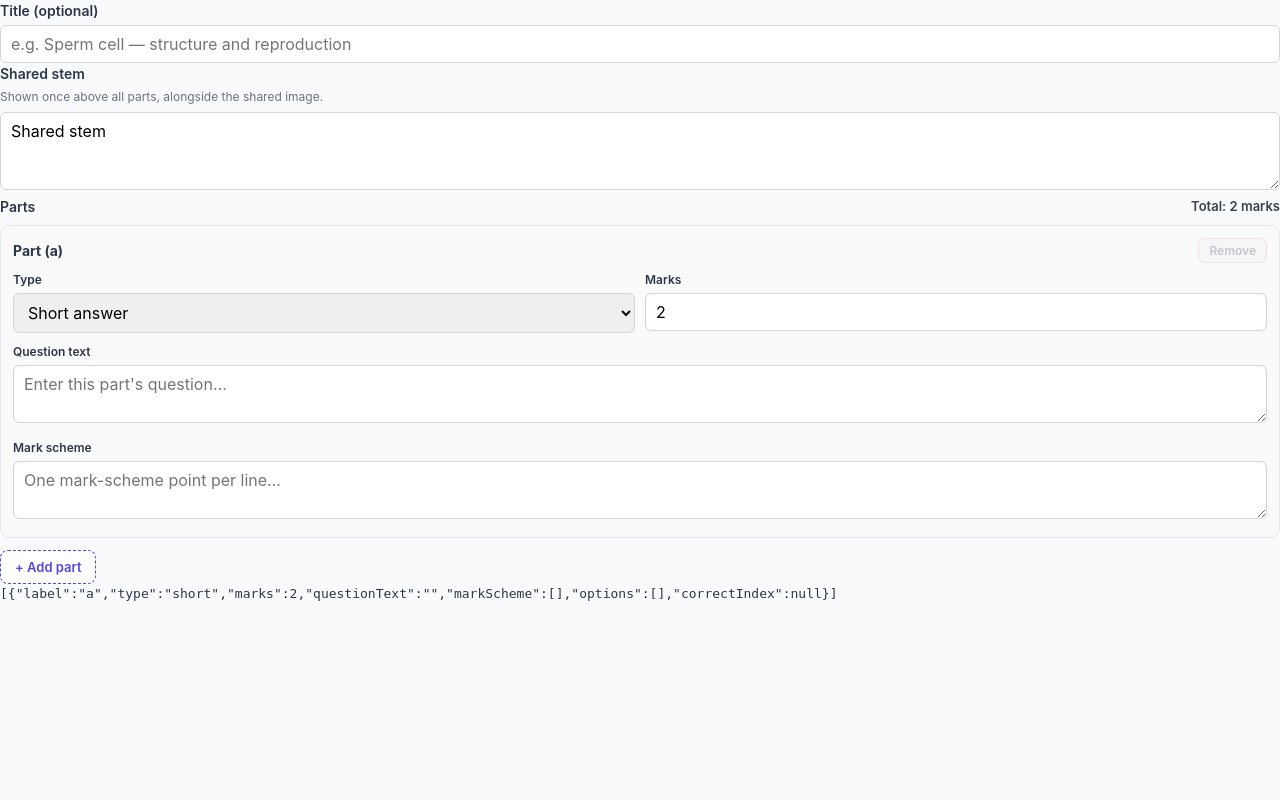
Scenario: CompositePartsEditor table authoring › flag ON: Table option visible in part type select
This screenshot has width=1280, height=800.
Select "Table" in the dropdown with test id "part-type-select-0": (324, 313) [13, 293, 635, 333]
(page scrolled)
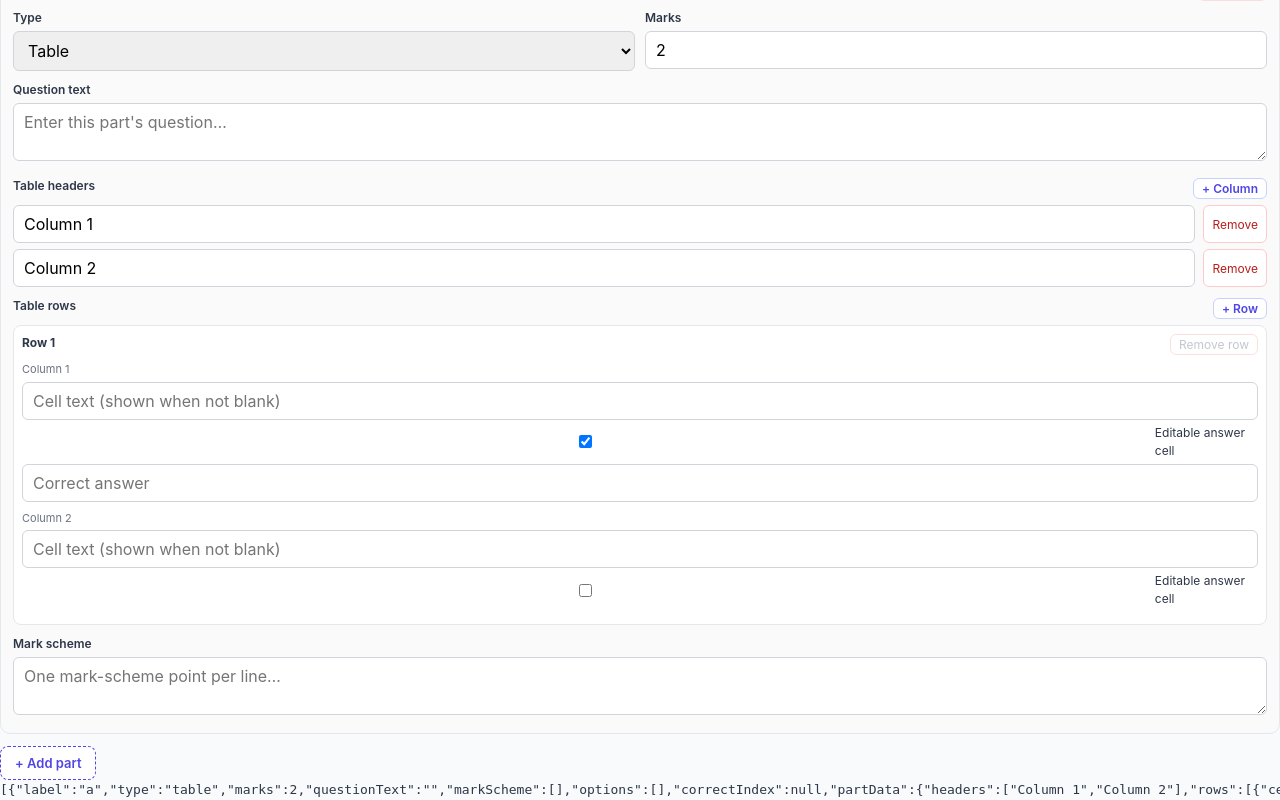
Check: the element with test id "composite-table-part-editor" is shown, box [13, 177, 1267, 625]
